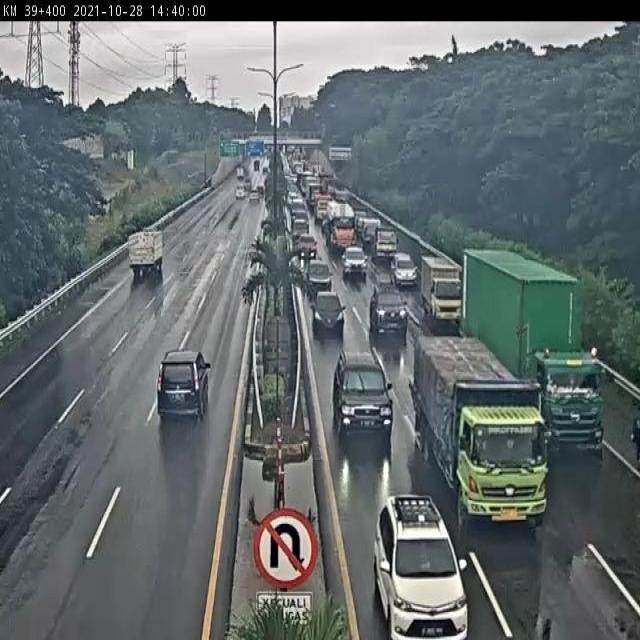big truck: (465, 243, 606, 456), (413, 336, 548, 524), (325, 201, 355, 243)
car: (375, 497, 467, 640), (332, 351, 391, 433), (157, 352, 210, 421), (370, 286, 410, 334), (311, 288, 343, 331), (369, 225, 399, 260), (342, 245, 368, 276), (304, 253, 330, 283), (392, 253, 418, 283), (295, 231, 317, 257)
mid truck: (127, 231, 165, 277)
small truck: (419, 256, 462, 321)
